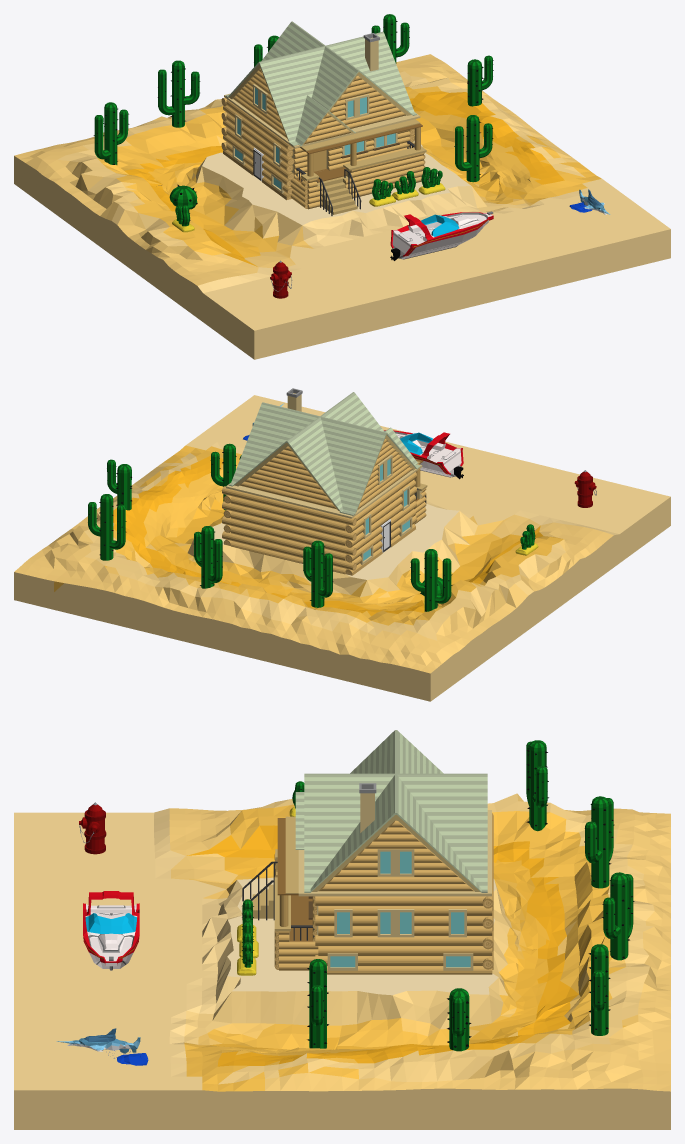
The picture shows the model from 3 angles, top to bottom: view 1: azimuth 30°, elevation 25°; view 2: azimuth 150°, elevation 25°; view 3: azimuth 270°, elevation 25°; orthographic projection. The views are drawn at different scales.
Parts seen in each view (by area): view 1: Cube.001, Cube.1516, VEHICLES_BOAT, Cylinder.037, Cylinder.044, Cylinder.045, Cylinder.038, Cylinder.042, OBJRANDOM_FIRE_HYDRANT, Cylinder.039, Cylinder.041, Sphere.023 (+1 smaller); view 2: Cube.001, Cube.1516, VEHICLES_BOAT, Cylinder.042, Cylinder.045, Cylinder.044, Cylinder.043, Cylinder.038, Cylinder.037, OBJRANDOM_FIRE_HYDRANT; view 3: Cube.001, Cube.1516, VEHICLES_BOAT, Cylinder.043, Cylinder.044, Cylinder.045, Cylinder.042, Cylinder.037, Cylinder.038, ANIMAL_PEZ_ESPADA, OBJRANDOM_FIRE_HYDRANT, Cylinder.041.
Part boxes in pixels (x1,y1,x2,y2): Cube.001: (14,54,670,359); Cube.1516: (221,21,426,215); VEHICLES_BOAT: (390,211,493,260); Cylinder.037: (454,115,493,182); Cylinder.044: (157,60,200,127); Cylinder.045: (93,102,129,164); Cylinder.038: (467,55,493,106); Cylinder.042: (371,14,409,63); OBJRANDOM_FIRE_HYDRANT: (270,260,292,298); Cylinder.039: (369,179,395,206); Cylinder.041: (418,167,445,194); Sphere.023: (169,184,197,209); Cube.001: (14,395,670,701); Cube.1516: (222,388,427,575); VEHICLES_BOAT: (384,430,463,479); Cylinder.042: (88,494,126,560); Cylinder.045: (410,549,452,611); Cylinder.044: (303,540,333,607); Cylinder.043: (193,526,222,588); Cylinder.038: (107,459,131,510); Cylinder.037: (210,443,241,510); OBJRANDOM_FIRE_HYDRANT: (574,470,596,507); Cube.001: (14,793,670,1129); Cube.1516: (242,730,493,974); VEHICLES_BOAT: (83,891,139,970); Cylinder.043: (602,872,634,960); Cylinder.044: (584,796,614,888); Cylinder.045: (526,740,548,831); Cylinder.042: (588,944,610,1035); Cylinder.037: (307,959,328,1048); Cylinder.038: (447,988,471,1051); ANIMAL_PEZ_ESPADA: (56,1028,148,1065); OBJRANDOM_FIRE_HYDRANT: (79,802,106,854); Cylinder.041: (237,932,256,975).
Size of the model in its own units: 4002 by 1630 by 4001.
Materials: 33 (3 with a texture image).
